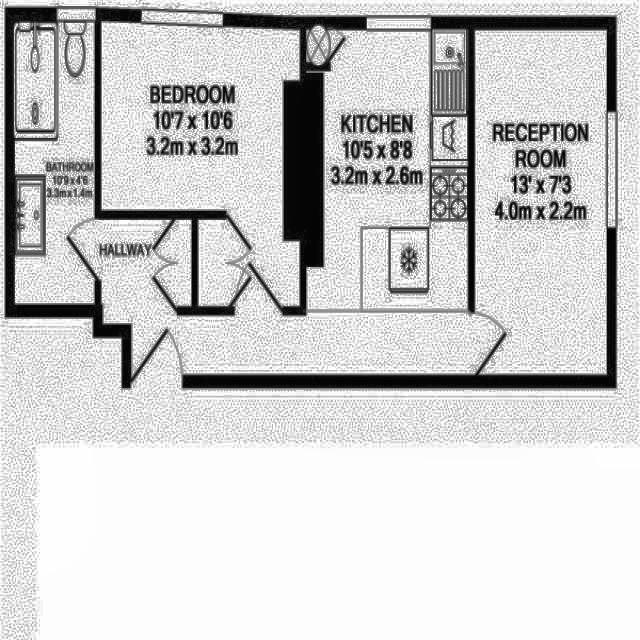room: (101, 30, 467, 377), (101, 22, 300, 308), (475, 32, 606, 375), (15, 23, 94, 304), (198, 221, 228, 305)
